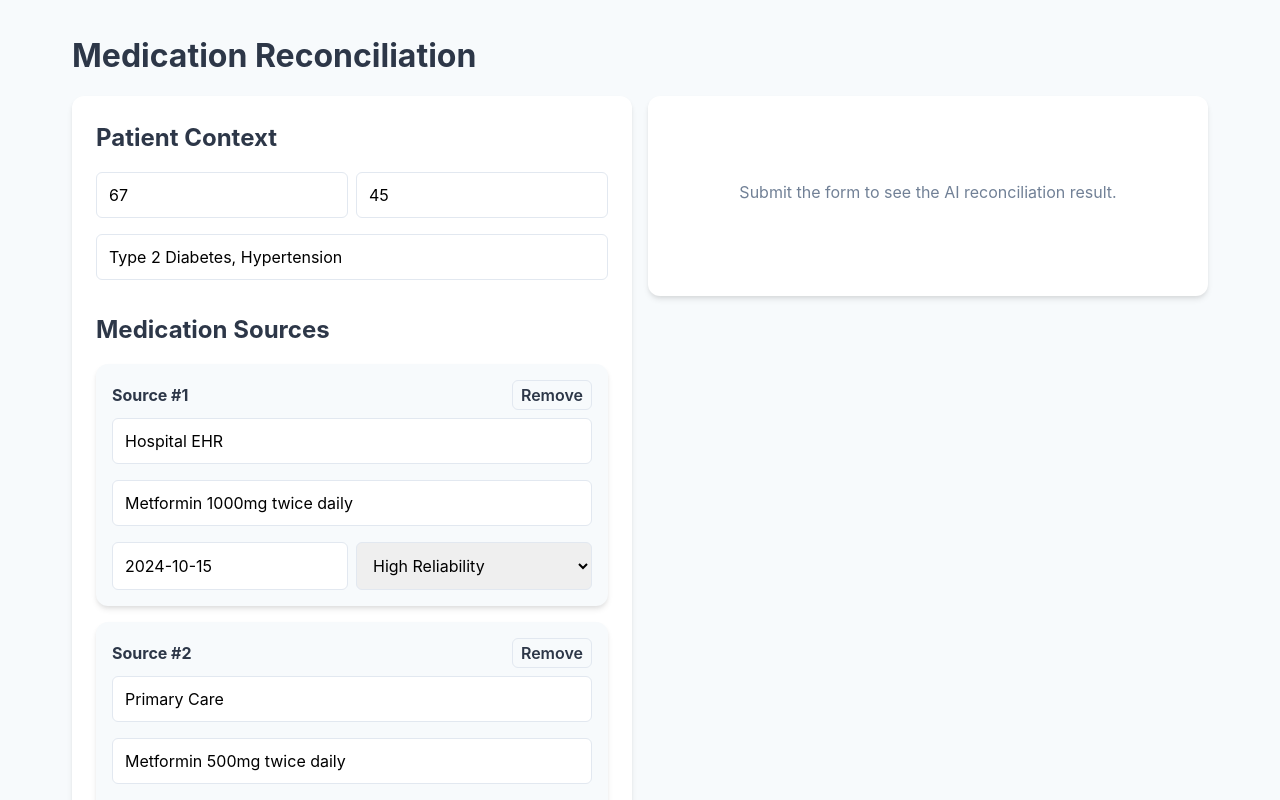
Test case: Input Validation Logic › MedicationReconciliation Form › rejects empty sources array
# Remove default sources
Step 1. Click the 1st button "Remove" → (552, 395), box [512,380,592,410]
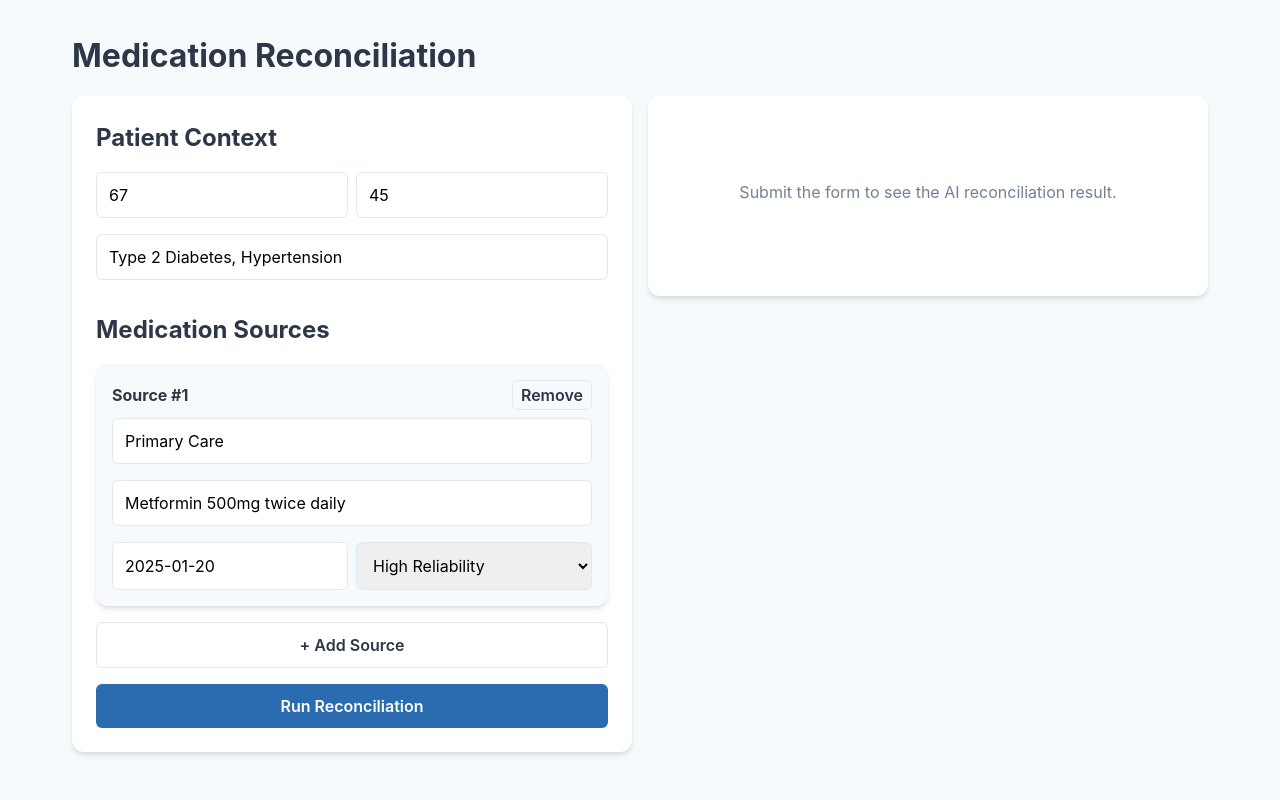
# We might need to re-query the buttons array depending on render cycle
Step 2. Click the button "Remove" → (552, 395), box [512,380,592,410]
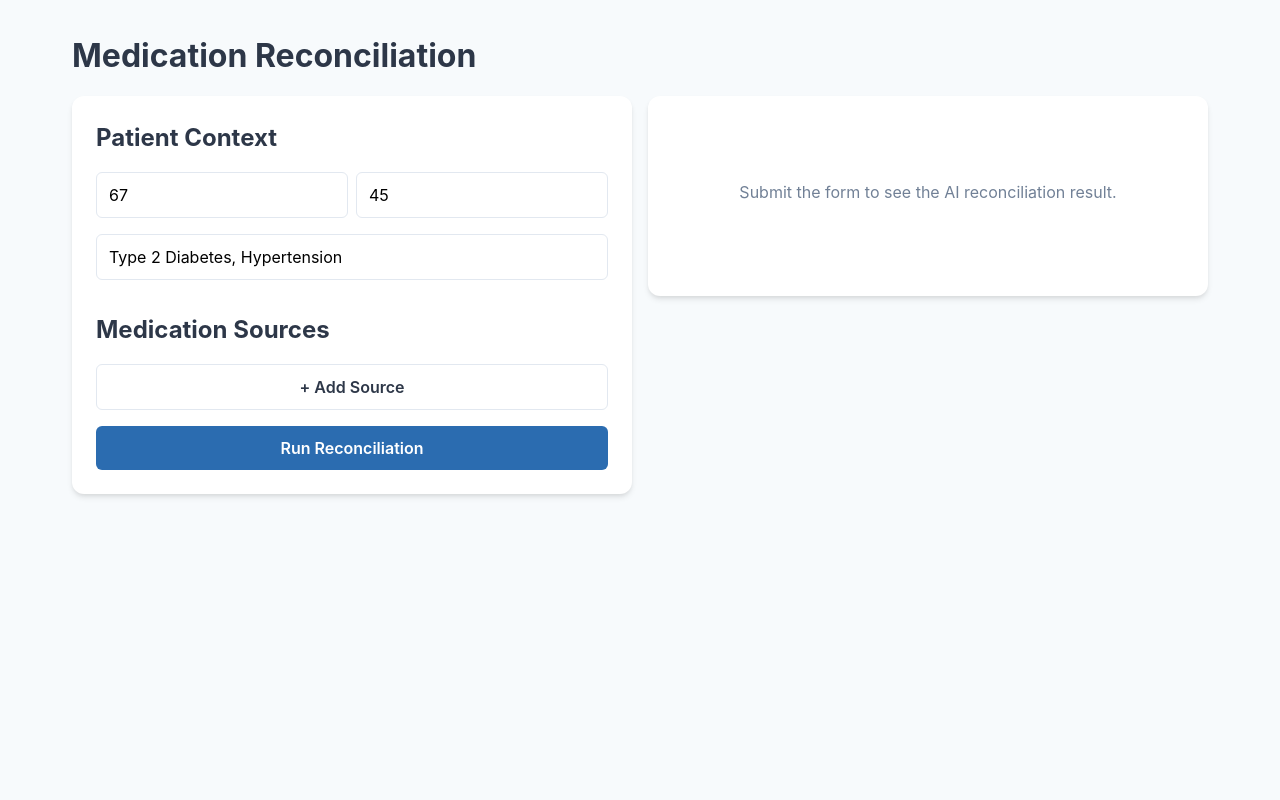
# Submit with 0 sources
Step 3. Click the button "Run Reconciliation" → (352, 448), box [96,426,608,470]
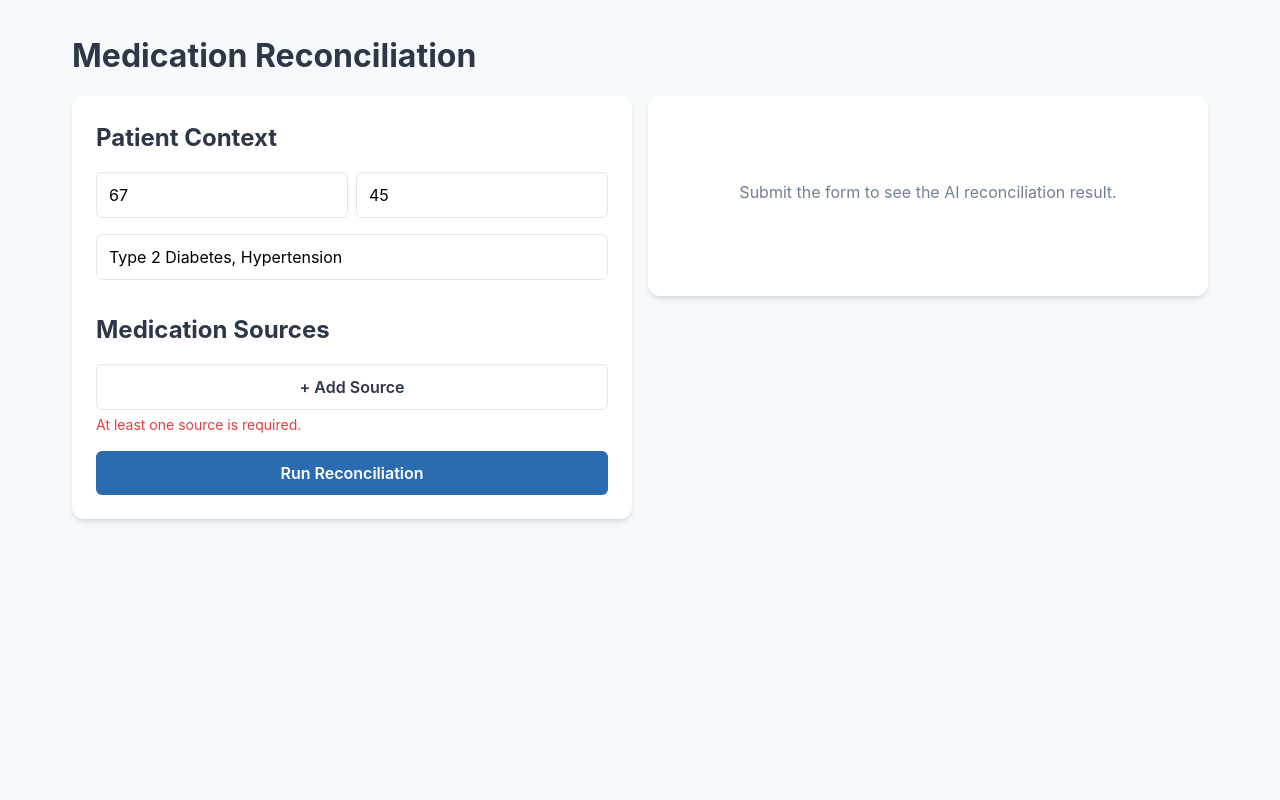
Check: the text "At least one source is required." is shown, box [96,416,301,433]
